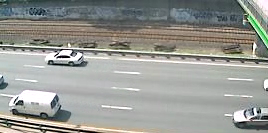car: (6, 88, 63, 120), (229, 105, 268, 130), (42, 47, 86, 69)
